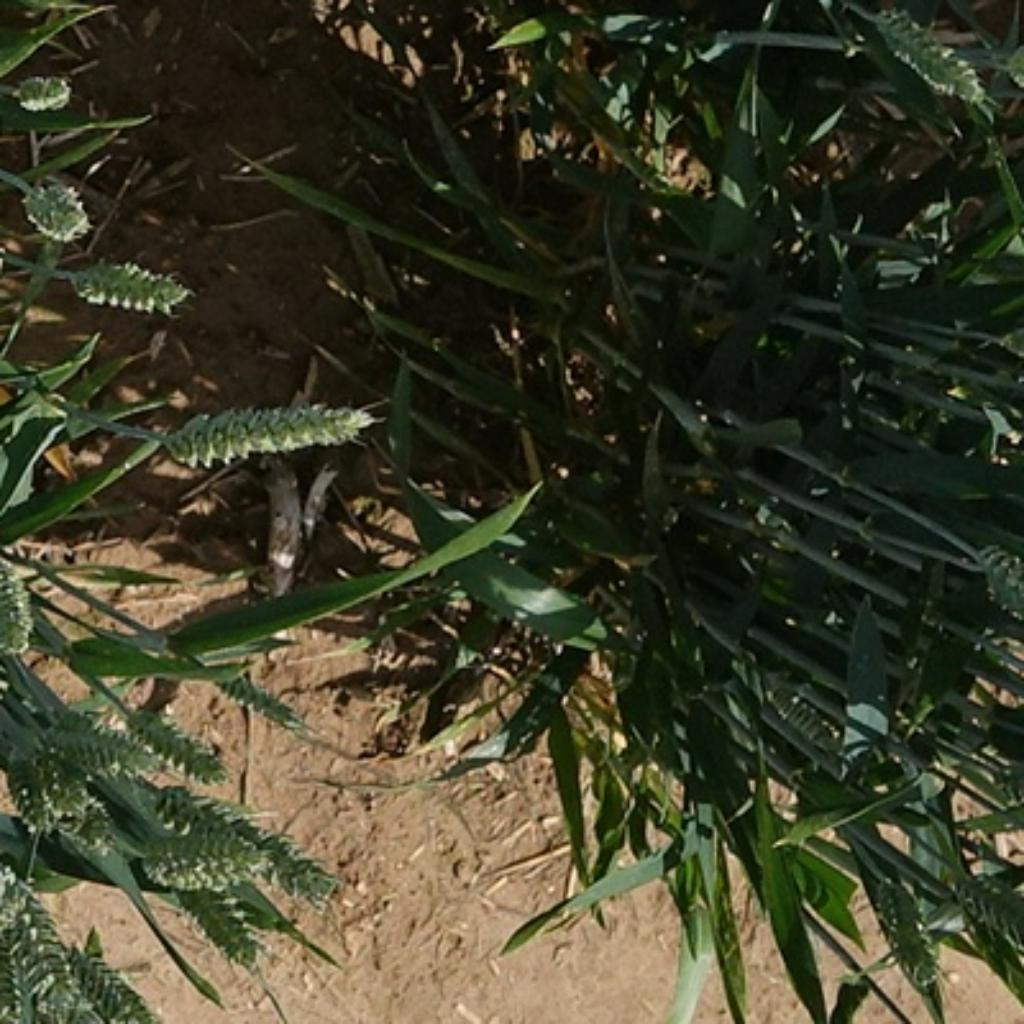0-0: (151, 386, 378, 471), (161, 788, 330, 896), (2, 870, 107, 1024), (860, 0, 997, 115), (194, 660, 320, 747), (869, 882, 951, 1003), (135, 701, 235, 793), (764, 667, 864, 756), (140, 837, 266, 903), (61, 253, 192, 314), (48, 701, 151, 775), (176, 883, 263, 967), (33, 752, 107, 847), (77, 944, 162, 1024), (950, 864, 1024, 947), (965, 539, 1024, 637), (12, 171, 92, 243), (0, 750, 53, 837), (0, 553, 35, 671), (2, 66, 79, 115)
